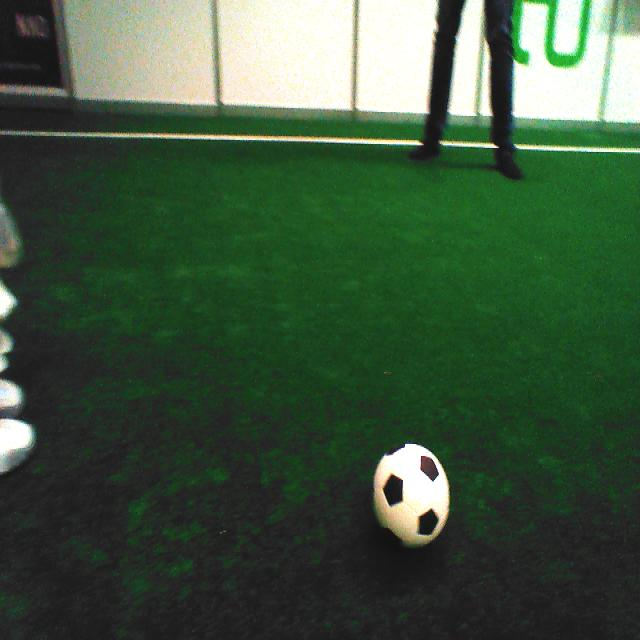ball: (372, 444, 452, 552)
